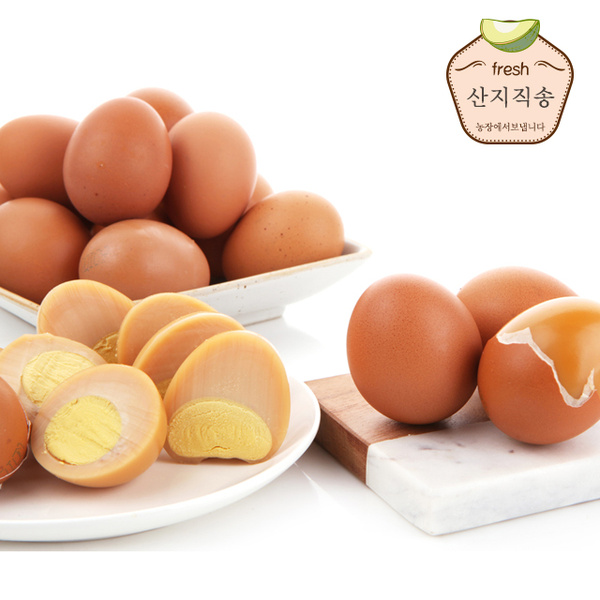egg: (1, 85, 354, 300), (4, 280, 286, 486), (338, 261, 600, 445)
